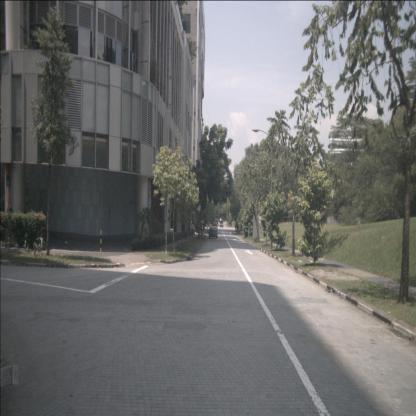vehicle-bicycle: (33, 226, 47, 257)
vehicle-car: (208, 226, 218, 239), (212, 222, 218, 232)
vehicle-truck: (220, 220, 224, 228)
